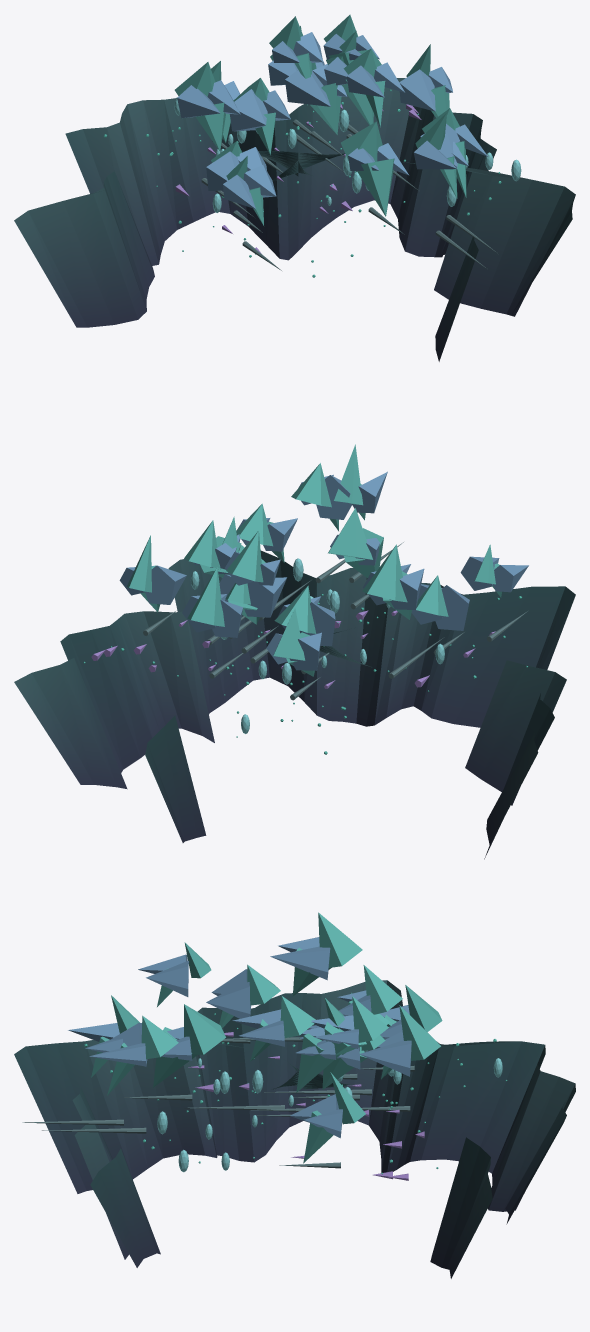
The model's file is hexcore_living_landscape_07.glb.
3 views of the same model, one above another, from view 1: azimuth 30°, elevation 25°; view 2: azimuth 150°, elevation 25°; view 3: azimuth 270°, elevation 25° (orthographic). The views are drawn at different scales.
Visible parts, largest first — view 1: ELVEN_GROWN_TERRAIN, SCULPTURAL_ELVEN_CANOPIES, BIO_LUMINESCENT_GROUND_LIFE; view 2: ELVEN_GROWN_TERRAIN, SCULPTURAL_ELVEN_CANOPIES, BIO_LUMINESCENT_GROUND_LIFE; view 3: ELVEN_GROWN_TERRAIN, SCULPTURAL_ELVEN_CANOPIES, BIO_LUMINESCENT_GROUND_LIFE.
Part boxes in pixels (x1=…): ELVEN_GROWN_TERRAIN: x1=14, y1=78, x2=575, y2=361; SCULPTURAL_ELVEN_CANOPIES: x1=174, y1=14, x2=497, y2=270; BIO_LUMINESCENT_GROUND_LIFE: x1=103, y1=89, x2=521, y2=277; ELVEN_GROWN_TERRAIN: x1=14, y1=550, x2=575, y2=859; SCULPTURAL_ELVEN_CANOPIES: x1=119, y1=444, x2=528, y2=700; BIO_LUMINESCENT_GROUND_LIFE: x1=83, y1=558, x2=527, y2=754; ELVEN_GROWN_TERRAIN: x1=14, y1=980, x2=575, y2=1278; SCULPTURAL_ELVEN_CANOPIES: x1=22, y1=912, x2=442, y2=1168; BIO_LUMINESCENT_GROUND_LIFE: x1=84, y1=1013, x2=507, y2=1180.
Size of the model in its own units: 80.04 by 46.12 by 82.57.
